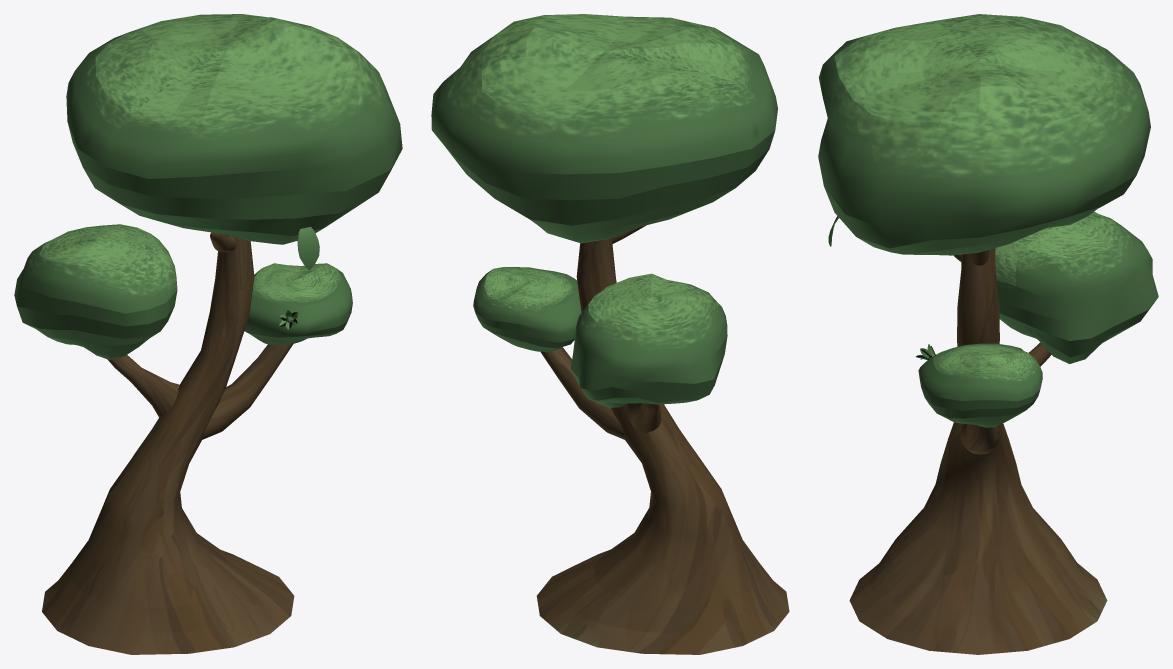
File: MediumTreeF.fbx
The picture shows the model from 3 angles, left to right: view 1: azimuth 30°, elevation 25°; view 2: azimuth 150°, elevation 25°; view 3: azimuth 270°, elevation 25°; orthographic projection. The views are drawn at different scales.
Visible parts, largest first — view 1: pSphere2; view 2: pSphere2; view 3: pSphere2.
Part boxes in pixels (bbox=[...]): pSphere2: bbox=[14, 14, 402, 654]; pSphere2: bbox=[431, 14, 789, 654]; pSphere2: bbox=[818, 14, 1158, 654].
Size of the model in its own units: 2.81 by 4.65 by 2.49.
